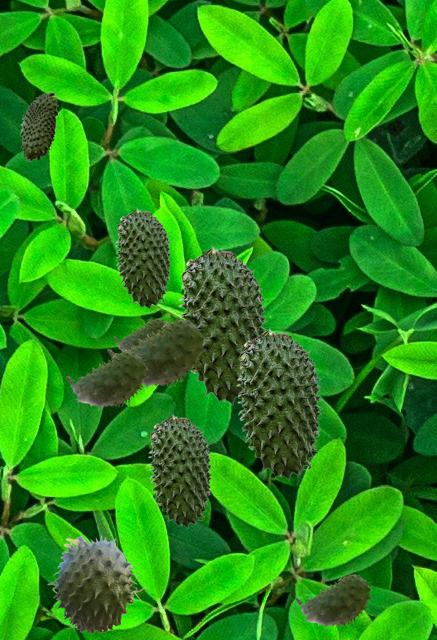guyabano: (178, 246, 267, 404), (236, 328, 322, 479), (47, 534, 145, 633), (148, 414, 212, 527), (107, 319, 205, 389), (115, 208, 171, 308), (66, 351, 147, 409), (295, 574, 371, 628), (20, 92, 57, 160), (113, 318, 166, 352)
